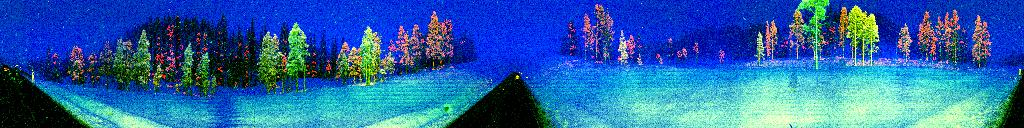pole: (251, 104, 256, 128), (785, 121, 794, 128)
